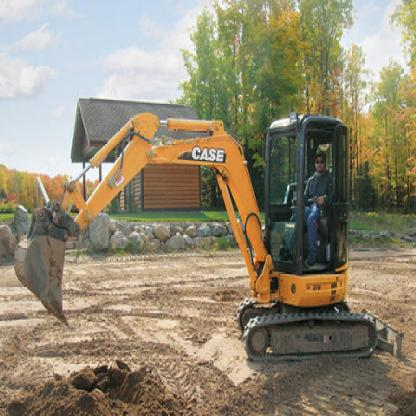excavator: (11, 77, 398, 369)
